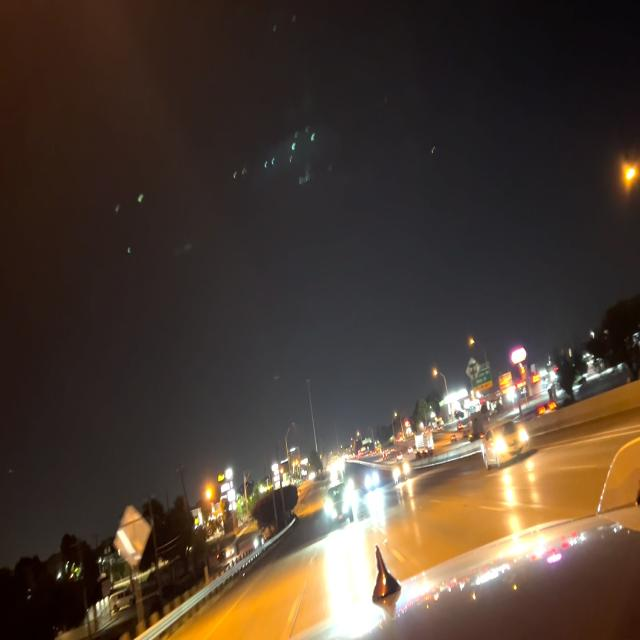back-of-sign: (114, 503, 151, 567)
